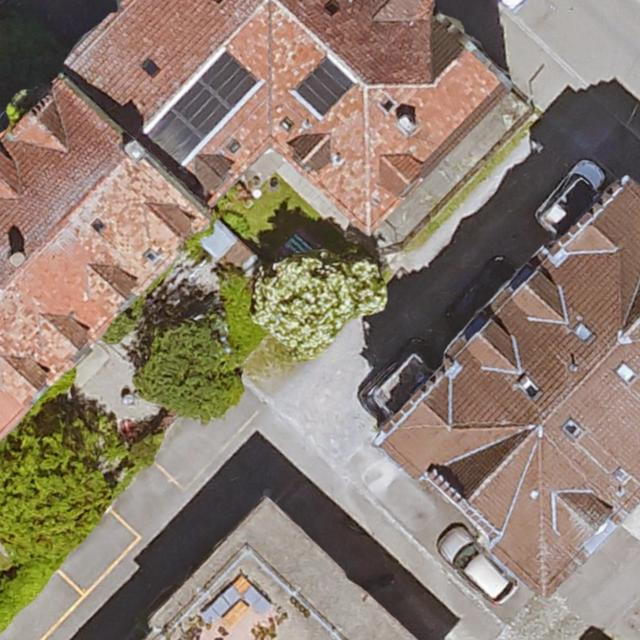tree: (0, 422, 109, 555), (252, 251, 385, 352), (139, 318, 240, 419)
